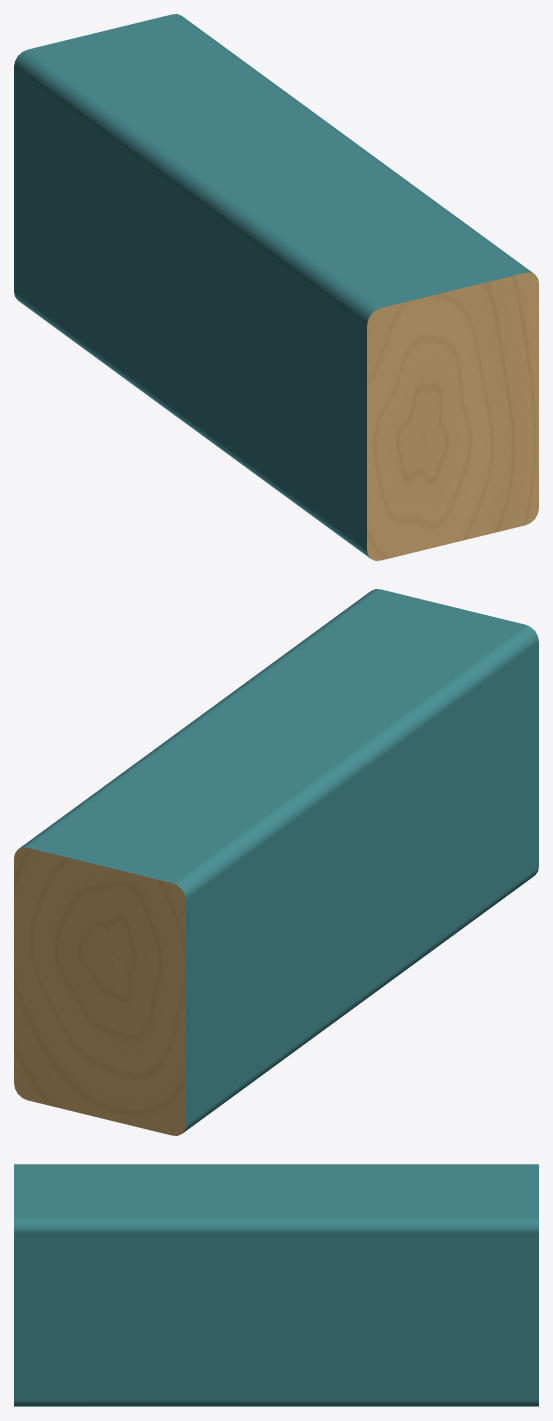
Rendered from play-coral-block-teal.glb.
3 views of the same model, one above another, from view 1: azimuth 30°, elevation 25°; view 2: azimuth 150°, elevation 25°; view 3: azimuth 270°, elevation 25° (orthographic). The views are drawn at different scales.
Visible parts, largest first — view 1: Block_Painted_Body, Block_Paint_Top, Block_Wood_End_Front; view 2: Block_Painted_Body, Block_Paint_Top, Block_Wood_End_Back; view 3: Block_Paint_Left, Block_Paint_Top, Block_Paint_Bottom.
Part boxes in pixels (x1=…): Block_Painted_Body: x1=14, y1=56, x2=370, y2=558; Block_Paint_Top: x1=18, y1=14, x2=533, y2=314; Block_Wood_End_Front: x1=367, y1=272, x2=538, y2=560; Block_Painted_Body: x1=182, y1=631, x2=538, y2=1133; Block_Paint_Top: x1=19, y1=589, x2=534, y2=889; Block_Wood_End_Back: x1=14, y1=847, x2=185, y2=1135; Block_Paint_Left: x1=14, y1=1224, x2=538, y2=1405; Block_Paint_Top: x1=14, y1=1164, x2=538, y2=1224; Block_Paint_Bottom: x1=14, y1=1406, x2=538, y2=1406.
Size of the model in its own units: 0.052 by 0.073 by 0.185.
Materials: 2 (1 with a texture image).
